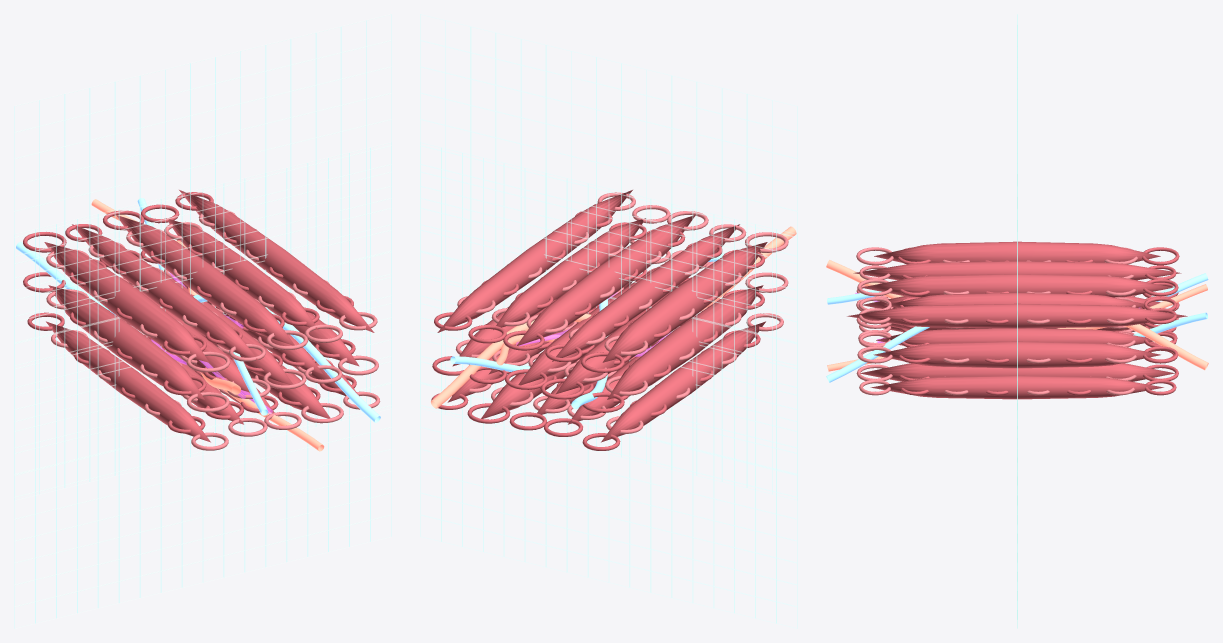
The model's file is heart-tissue-responding-2.glb.
3 views of the same model, side by side, from view 1: azimuth 30°, elevation 25°; view 2: azimuth 150°, elevation 25°; view 3: azimuth 270°, elevation 25° (orthographic). The views are drawn at different scales.
Parts seen in each view (by area): view 1: ECM_Bot, ECM_Top, Fibre_12, Fibre_14, Fibre_10, Fibre_11, Fibre_5, Fibre_0, Fibre_13, CapVen1, Fibre_7, Fibre_6 (+6 smaller); view 2: ECM_Bot, ECM_Top, Fibre_12, Fibre_14, Fibre_10, Fibre_11, Fibre_5, Fibre_0, Fibre_13, CapArt1, Fibre_6, Fibre_7 (+7 smaller); view 3: Fibre_14, Fibre_9, Fibre_12, Fibre_4, Fibre_10, Fibre_11, Fibre_8, Fibre_3, Fibre_13, CapArt1, CapVen1, CapVen2 (+1 smaller).
Part boxes in pixels (x1,y1,x2,y2): ECM_Bot: (14,142,391,628); ECM_Top: (14,14,391,500); Fibre_12: (116,215,294,345); Fibre_14: (179,190,374,332); Fibre_10: (44,242,209,362); Fibre_11: (72,224,259,361); Fibre_5: (48,285,204,399); Fibre_0: (46,321,210,442); Fibre_13: (166,218,318,329); CapVen1: (16,241,380,422); Fibre_7: (148,264,293,384); Fibre_6: (123,279,249,392); ECM_Bot: (420,142,797,628); ECM_Top: (420,14,797,500); Fibre_12: (517,215,695,345); Fibre_14: (437,190,632,332); Fibre_10: (602,242,767,362); Fibre_11: (552,224,739,361); Fibre_5: (607,285,763,399); Fibre_0: (601,321,765,442); Fibre_13: (493,218,645,329); CapArt1: (431,226,796,408); Fibre_6: (556,279,688,393); Fibre_7: (518,264,663,385); Fibre_14: (847,303,1187,328); Fibre_9: (873,341,1160,368); Fibre_12: (861,274,1173,297); Fibre_4: (870,375,1163,399); Fibre_10: (874,241,1160,262); Fibre_11: (853,261,1181,280); Fibre_8: (876,328,1153,345); Fibre_3: (860,363,1174,381); Fibre_13: (884,292,1150,307); CapArt1: (826,260,1208,370); CapVen1: (826,273,1208,382); CapVen2: (827,290,1207,337).
Size of the model in its own units: 4 by 5.3 by 4.04.
